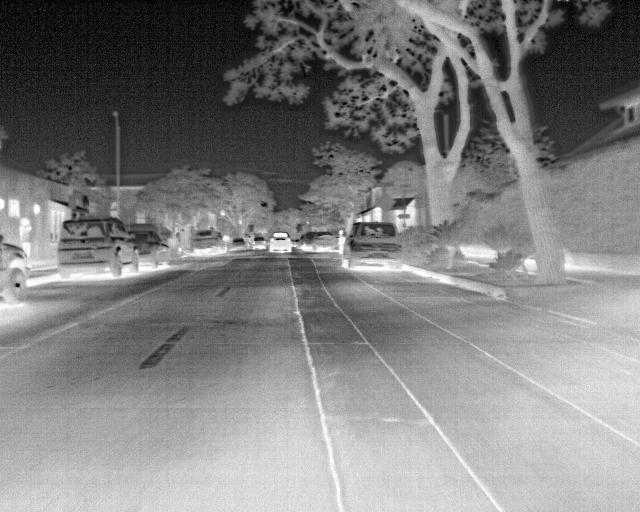bicycle: (54, 213, 139, 279), (344, 221, 403, 269), (0, 237, 31, 305), (126, 223, 168, 271), (189, 227, 228, 255), (310, 230, 336, 253), (268, 233, 294, 254), (228, 236, 248, 255), (301, 230, 319, 249), (249, 236, 268, 251)
empty: (335, 228, 348, 261)
